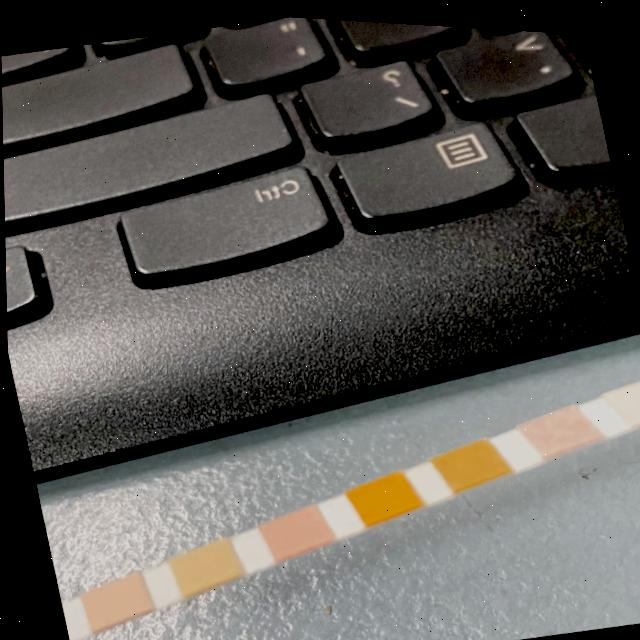Bilirubin: (616, 373, 640, 412)
Blood: (354, 472, 414, 516)
Ketone: (531, 402, 587, 447)
Protein: (171, 546, 238, 586)
SpGravity: (440, 437, 498, 482)
Urobilinogen: (81, 582, 149, 621)
pH: (263, 509, 326, 551)
